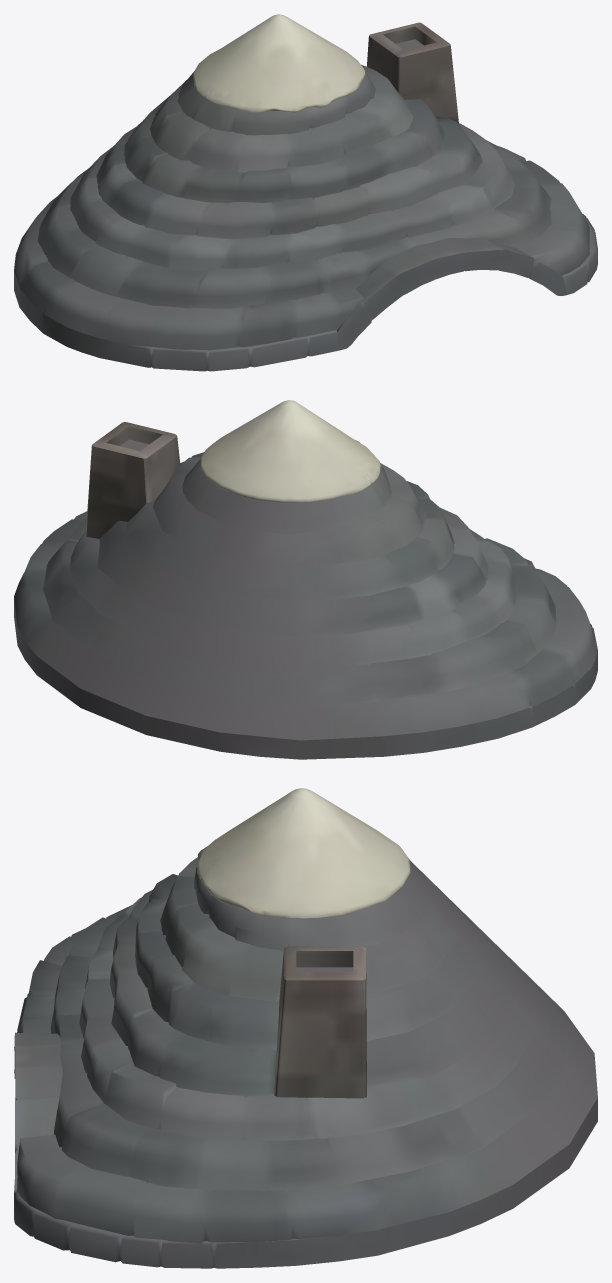
The model's file is roof-nd-stone.glb.
The picture shows the model from 3 angles, top to bottom: view 1: azimuth 30°, elevation 25°; view 2: azimuth 150°, elevation 25°; view 3: azimuth 270°, elevation 25°; orthographic projection. The views are drawn at different scales.
Bounding box in the file's own units: 39.98 × 18.2 × 30.37.
1 material, 1 textured.
